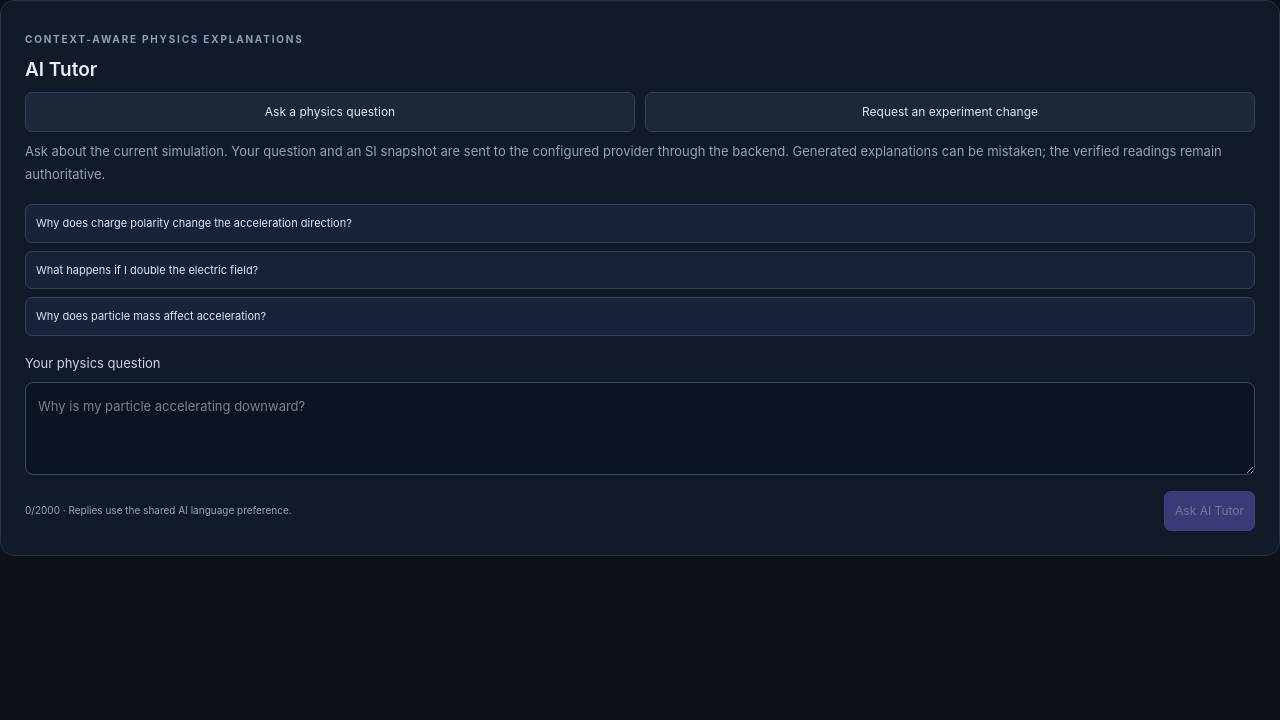
Test: shows clarification and never offers confirmation
The width and height of the screenshot is (1280, 720).
Click the button "Request an experiment change": click(950, 112) left=645, top=92, right=1255, bottom=132
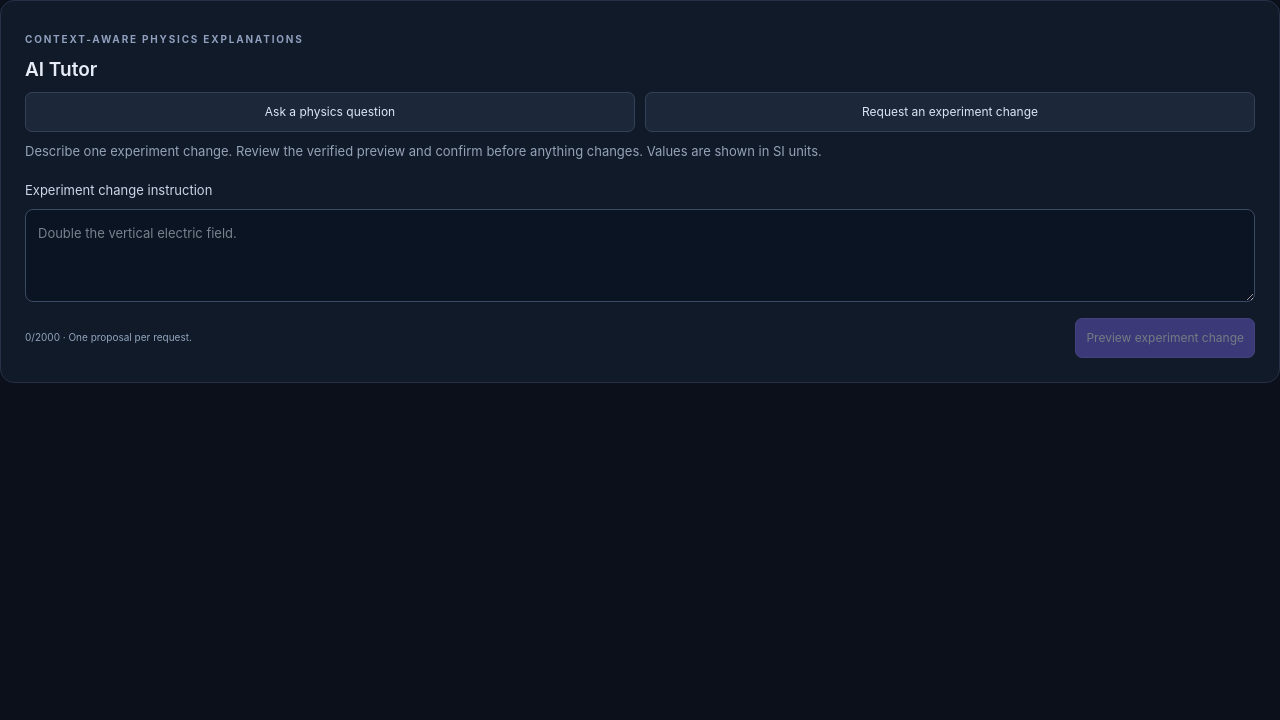
In the text box labelled "Experiment change instruction": (640, 256) left=25, top=209, right=1255, bottom=302, type "Double Ey."
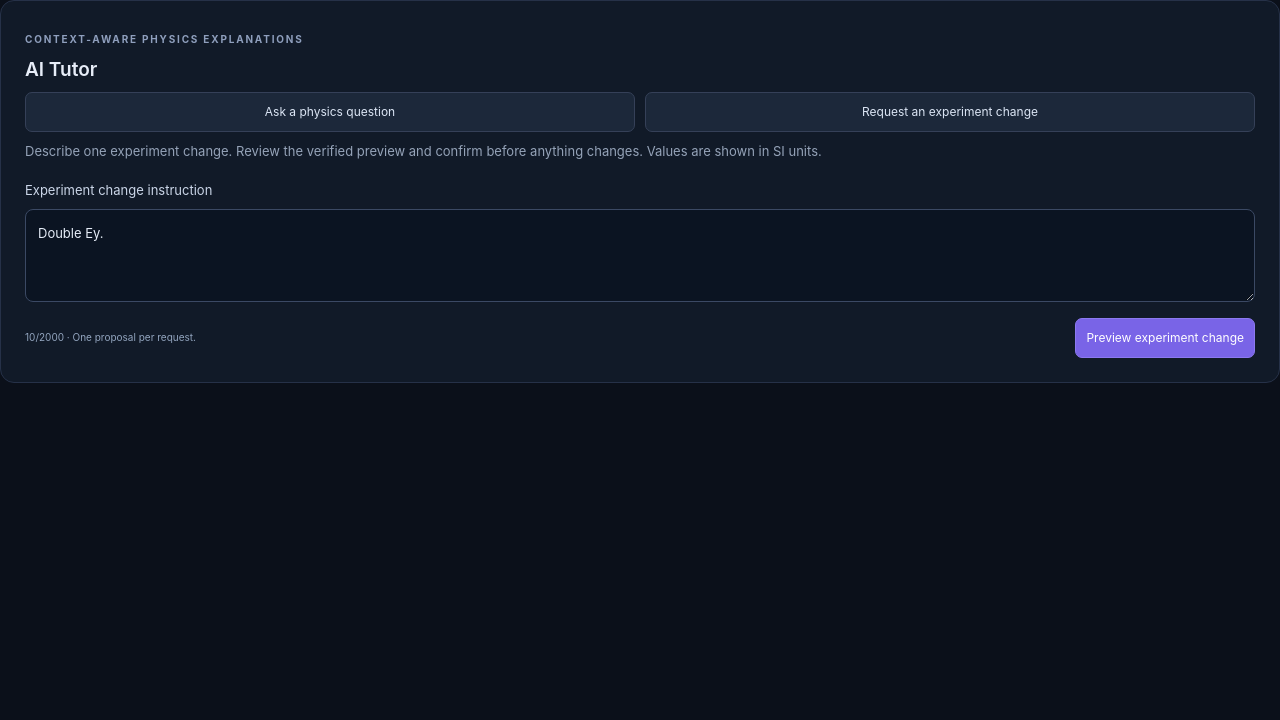
Click the button "Preview experiment change": click(1165, 338) left=1075, top=318, right=1255, bottom=358
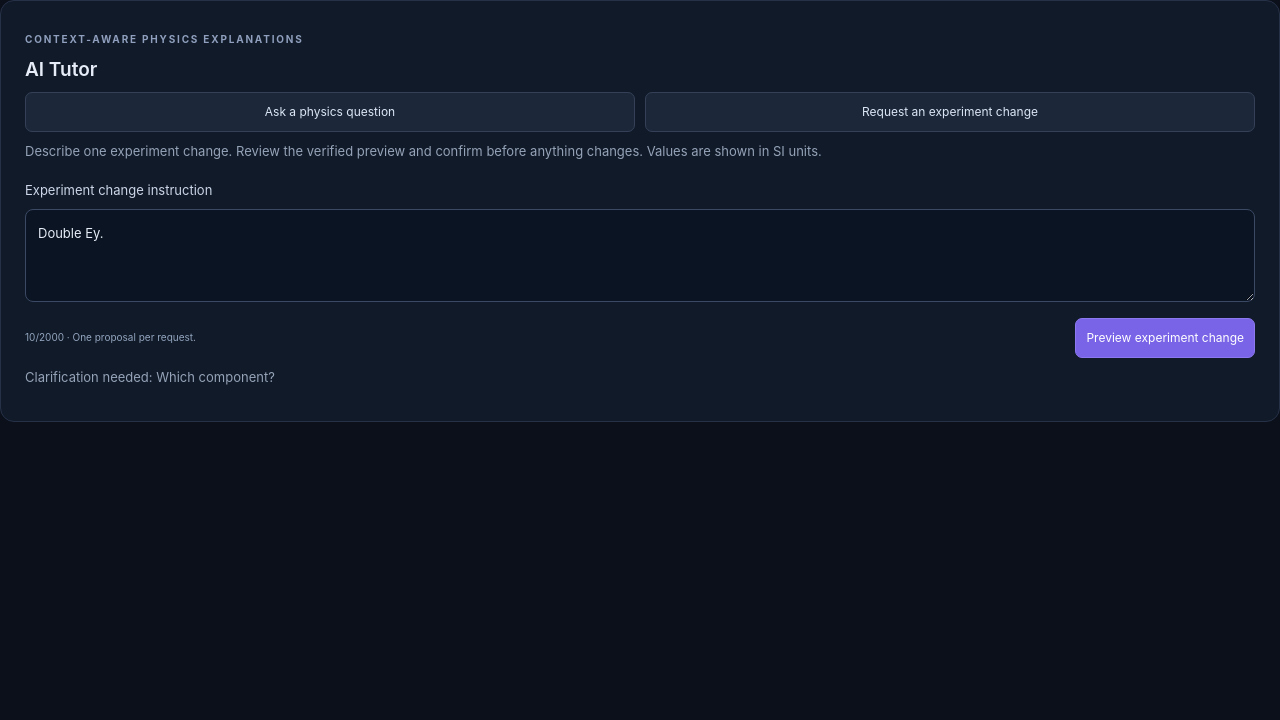
expect the text "Clarification needed: Which component?" is shown: met, box left=25, top=369, right=275, bottom=385
